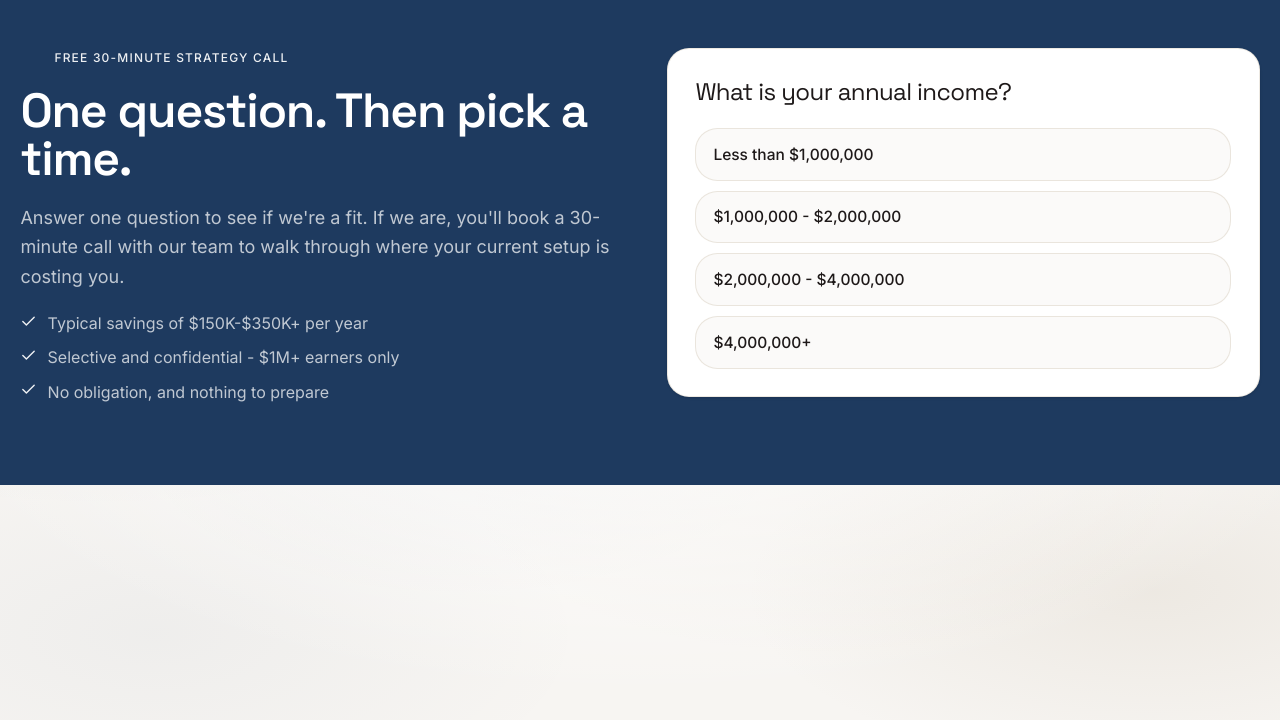
Test case: Income assessment › selecting under $1M shows the disqualification message
The width and height of the screenshot is (1280, 720).
Click the button "Less than $1,000,000" at (793, 154), box [695, 128, 1231, 181]
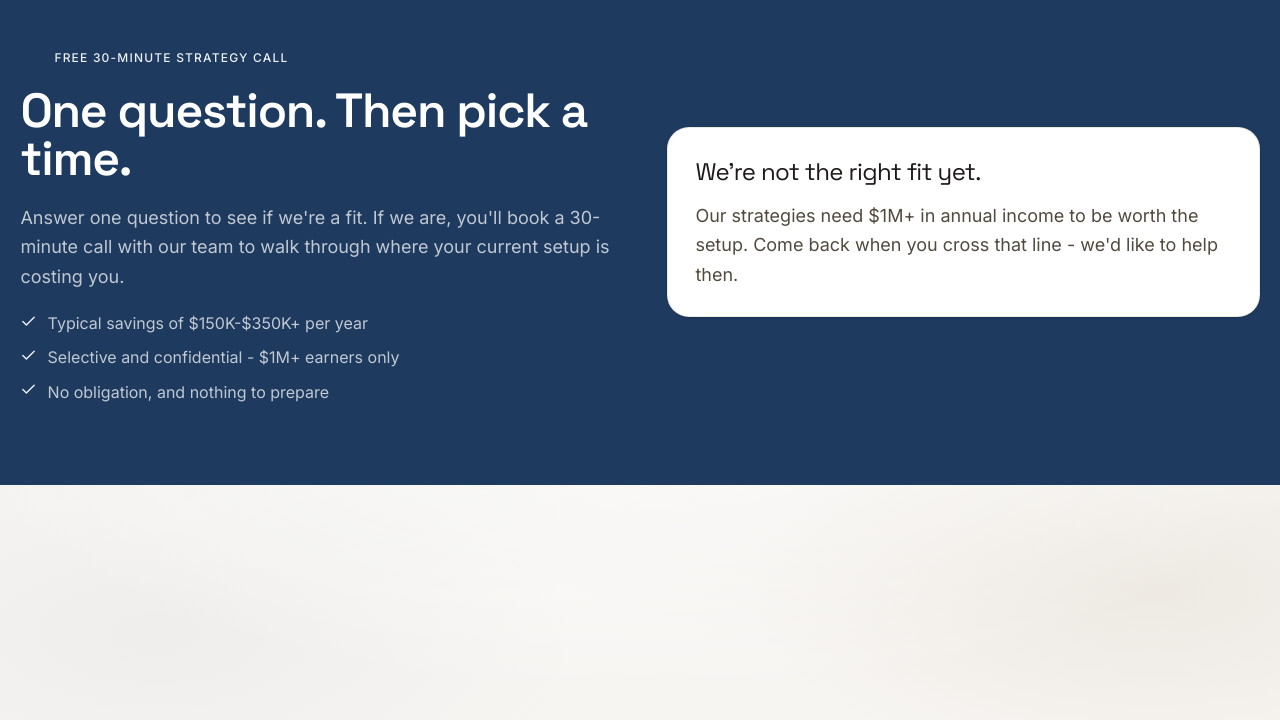
Expected: the element named "not qualified" is shown, [695, 156, 1231, 289]
Expected: the heading "We're not the right fit yet." is shown, [695, 156, 981, 186]
Expected: the text "come back when you cross that line" is shown, [695, 205, 1218, 285]
